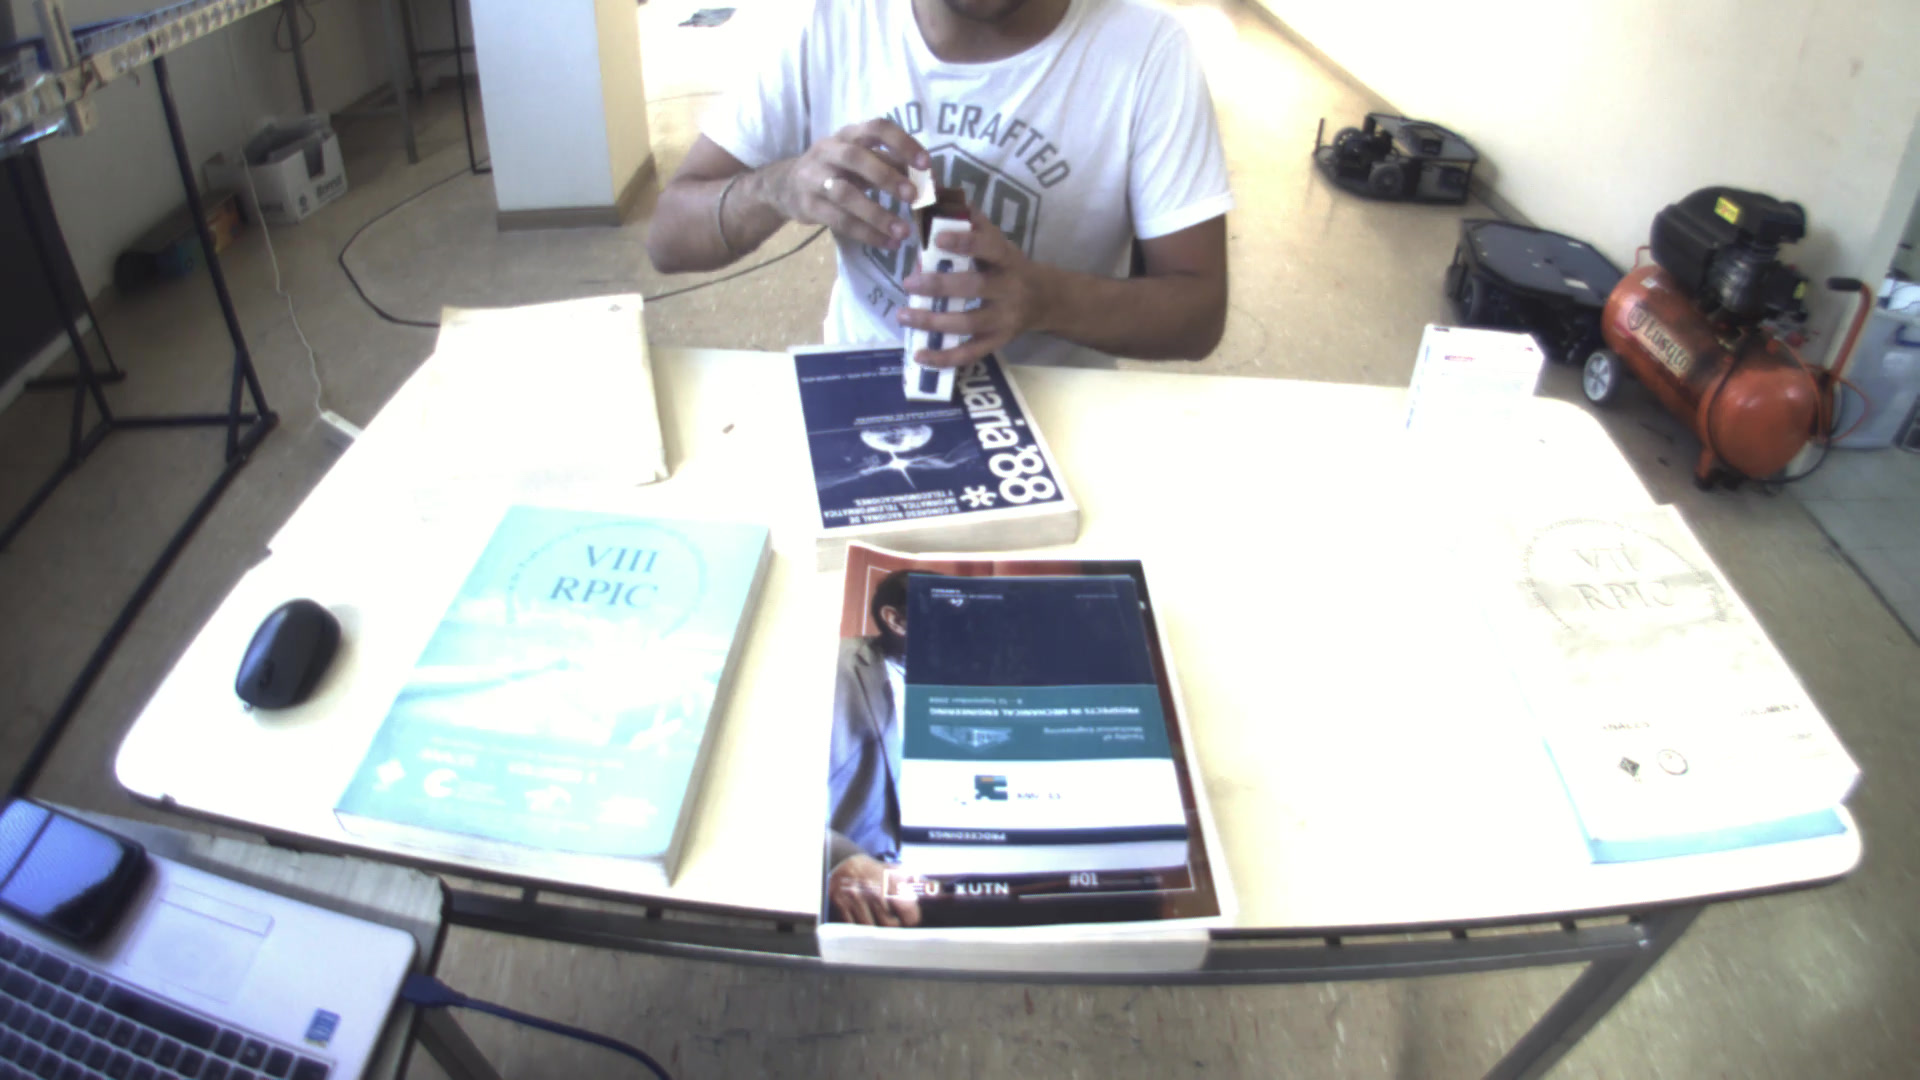hand: (886, 193, 1054, 380), (762, 109, 928, 248)
